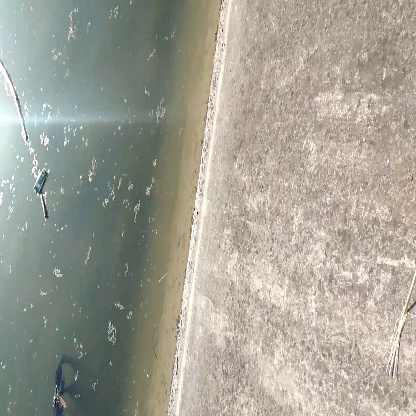milk-box: (31, 167, 55, 197)
